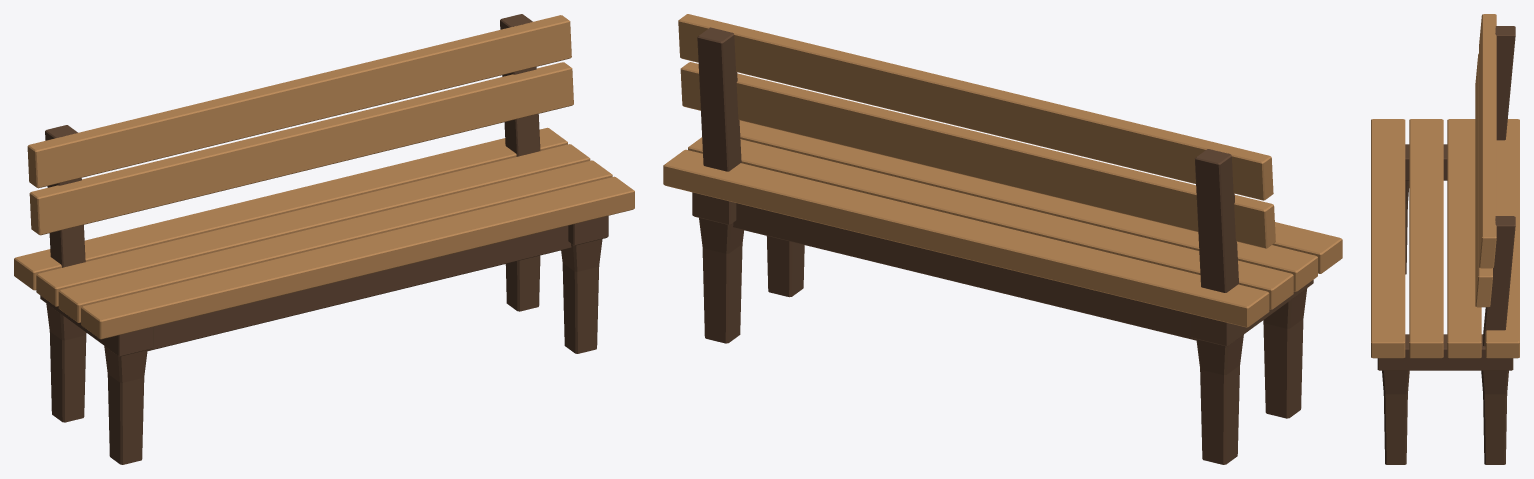
Rendered from bootstrap.glb.
3 views of the same model, side by side, from view 1: azimuth 30°, elevation 25°; view 2: azimuth 150°, elevation 25°; view 3: azimuth 270°, elevation 25° (orthographic). The views are drawn at different scales.
Parts seen in each view (by area): view 1: back-slat-0, back-slat-1, seat-slat-3, seat-slat-1, seat-slat-2, seat-slat-0, apron-1, leg--1-1, leg-1-1, leg--1--1, leg-1--1, back-post--1 (+3 smaller); view 2: back-slat-0, back-slat-1, seat-slat-0, seat-slat-1, apron--1, seat-slat-2, back-post-1, back-post--1, leg--1--1, leg-1--1, leg--1-1, leg-1-1 (+3 smaller); view 3: seat-slat-2, seat-slat-3, seat-slat-1, back-slat-0, seat-slat-0, back-post-1, leg-1--1, leg-1-1, seat-support-1, back-post--1, back-slat-1, seat-support--1 (+1 smaller).
Boxes of the visible parts, <box> form: back-slat-0: <box>27,15,571,188</box>; back-slat-1: <box>29,62,573,235</box>; seat-slat-3: <box>81,176,634,339</box>; seat-slat-1: <box>36,144,590,306</box>; seat-slat-2: <box>58,160,612,322</box>; seat-slat-0: <box>14,127,567,290</box>; apron-1: <box>147,225,571,350</box>; leg--1-1: <box>104,346,147,464</box>; leg-1-1: <box>561,239,602,353</box>; leg--1--1: <box>46,303,86,422</box>; leg-1--1: <box>505,255,540,311</box>; back-post--1: <box>45,125,85,267</box>; back-slat-0: <box>678,14,1273,200</box>; back-slat-1: <box>680,62,1275,248</box>; seat-slat-0: <box>663,149,1269,327</box>; seat-slat-1: <box>688,137,1293,309</box>; apron--1: <box>733,203,1196,340</box>; seat-slat-2: <box>739,120,1317,291</box>; back-post-1: <box>697,27,741,171</box>; back-post--1: <box>1195,149,1238,292</box>; leg--1--1: <box>1196,334,1243,464</box>; leg-1--1: <box>699,218,744,343</box>; leg--1-1: <box>1263,288,1307,418</box>; leg-1-1: <box>766,236,804,297</box>; seat-slat-2: <box>1409,119,1443,358</box>; seat-slat-3: <box>1371,119,1405,358</box>; seat-slat-1: <box>1447,119,1481,358</box>; back-slat-0: <box>1479,14,1496,268</box>; seat-slat-0: <box>1485,119,1519,358</box>; back-post-1: <box>1483,216,1515,346</box>; leg-1--1: <box>1481,370,1508,464</box>; leg-1-1: <box>1382,370,1409,464</box>; seat-support-1: <box>1377,334,1513,370</box>; back-post--1: <box>1495,26,1515,140</box>; back-slat-1: <box>1475,53,1492,307</box>; seat-support--1: <box>1405,144,1447,180</box>.
Size of the model in its own units: 1.6 by 0.8 by 0.45.
